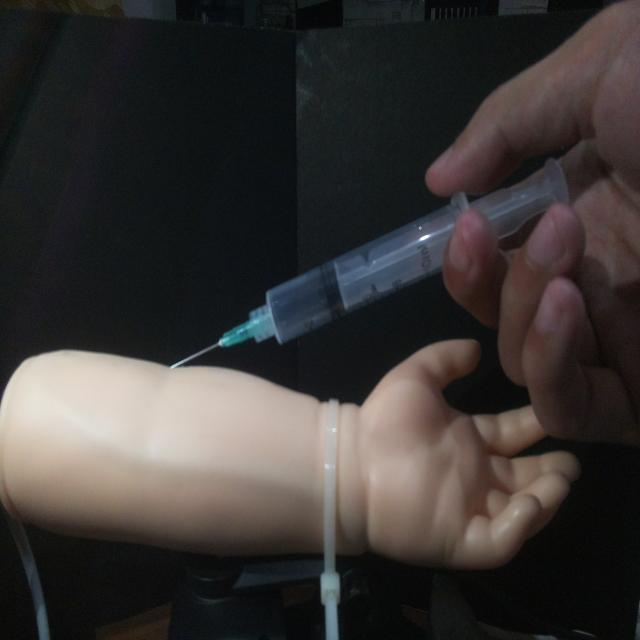23deg: (165, 150, 576, 372)
